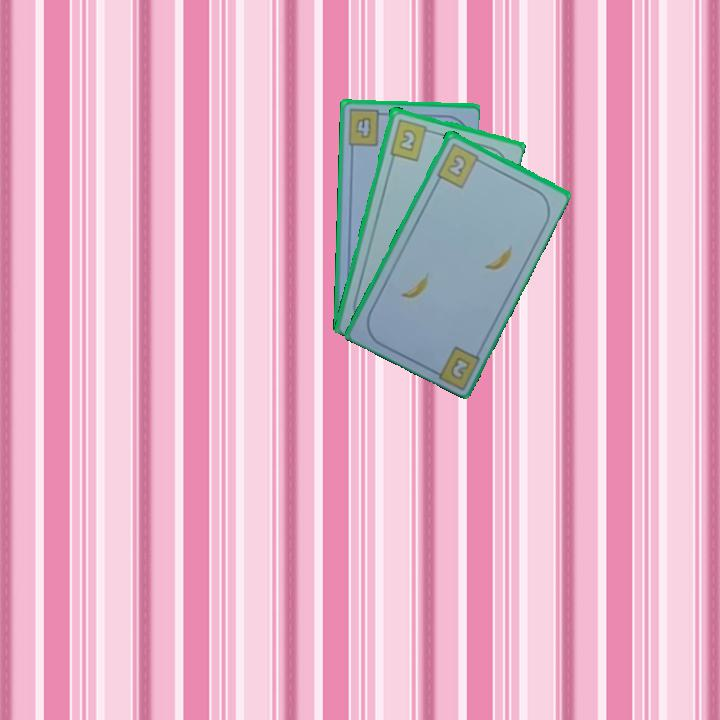2b: (433, 139, 486, 190), (386, 115, 435, 163), (447, 353, 473, 382)
4b: (344, 106, 389, 149)
